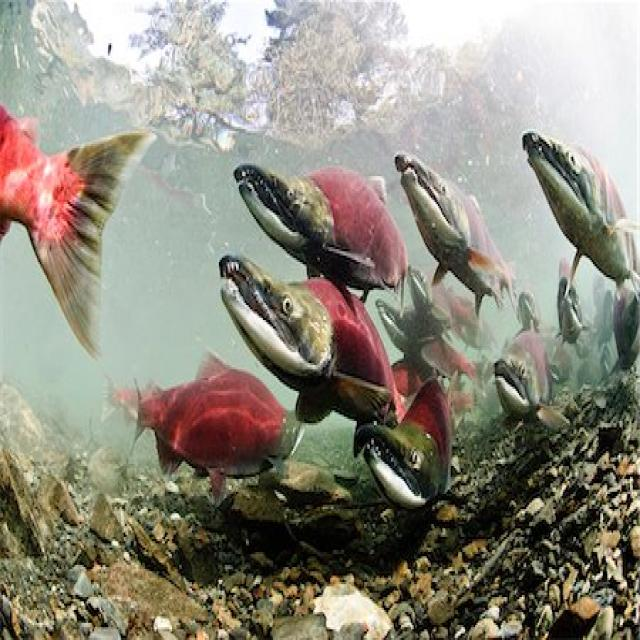salmon: (190, 257, 410, 449), (222, 142, 423, 306), (104, 355, 309, 505), (391, 120, 517, 325), (519, 118, 640, 322), (350, 366, 461, 512), (484, 328, 573, 444)
